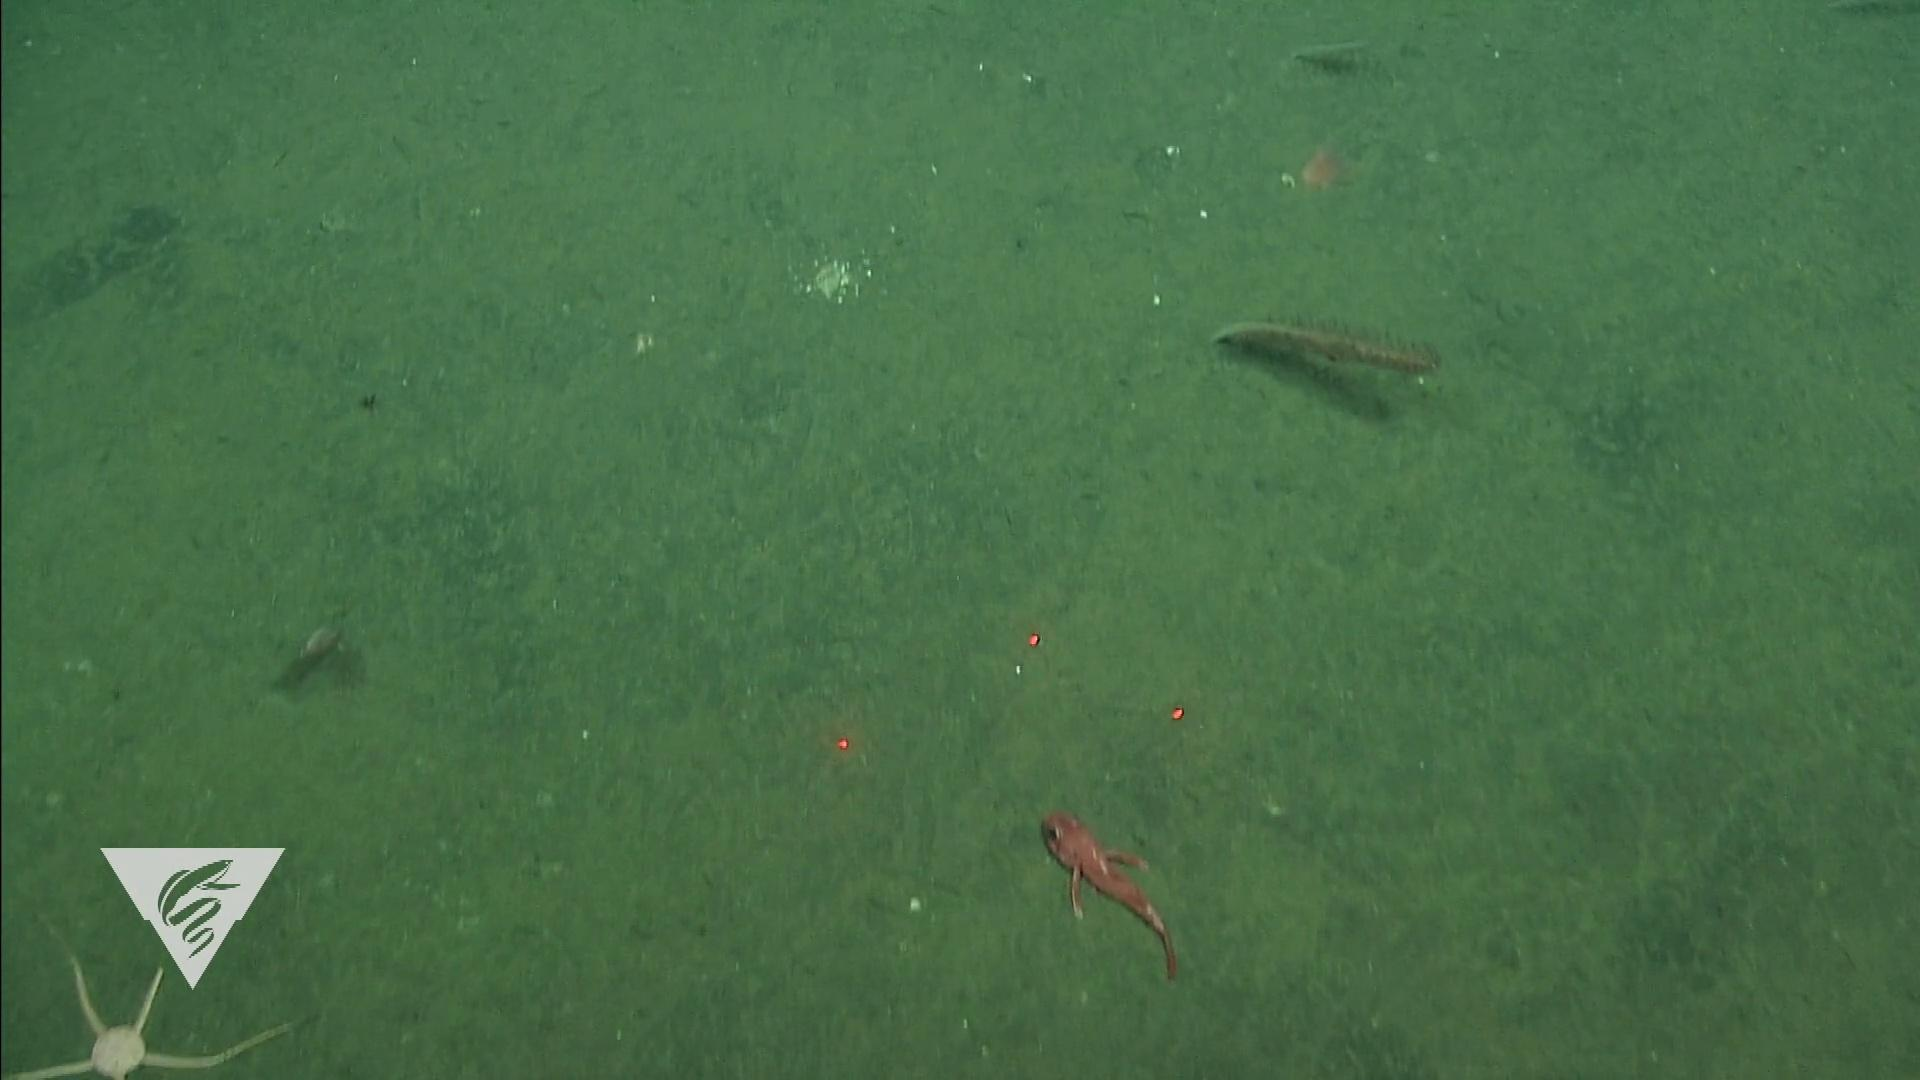Brittle Star: (7, 957, 301, 1080)
